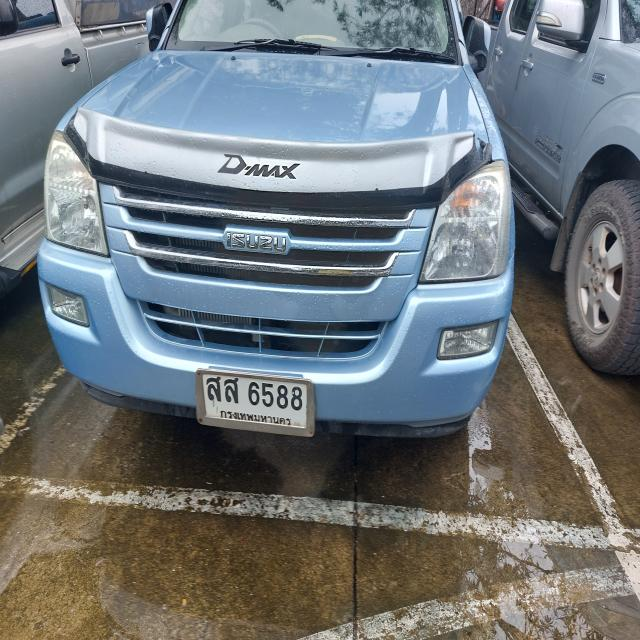license_plate: (196, 364, 317, 438)
